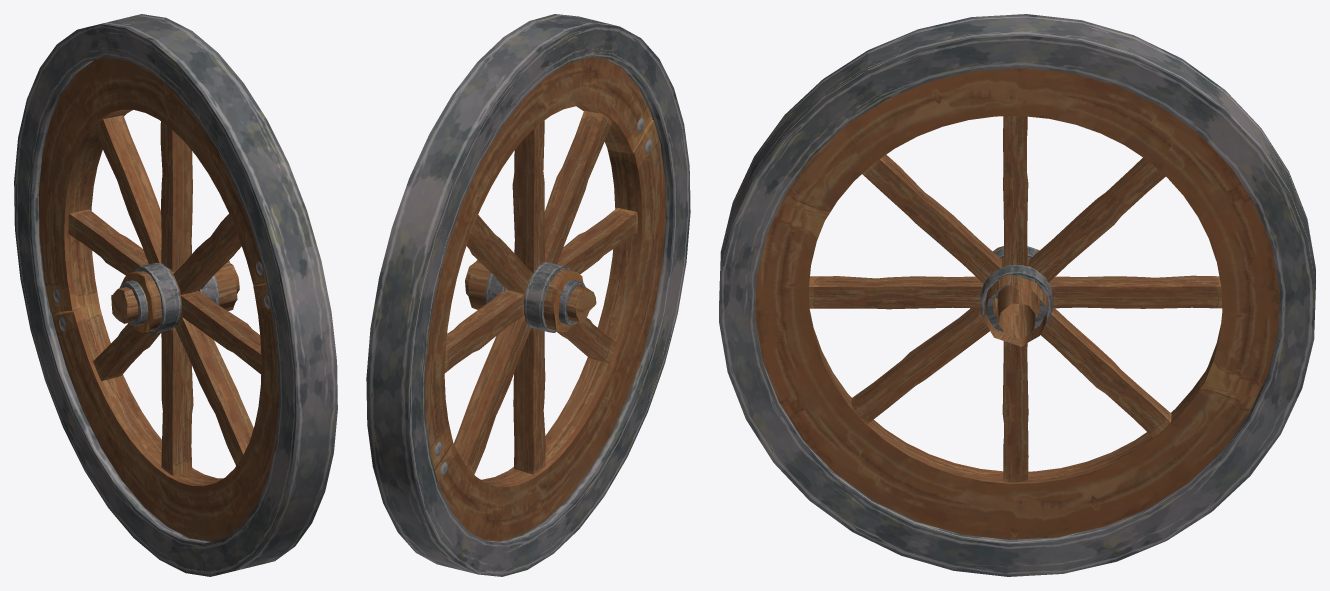
Rendered from SM_Farm_Carriage_Wheel_01.fbx.
3 renders of one model, left to right at view 1: azimuth 30°, elevation 25°; view 2: azimuth 150°, elevation 25°; view 3: azimuth 270°, elevation 25°, orthographic. The views are drawn at different scales.
Visible parts, largest first — view 1: SM_Farm_Carriage_Wheel_01_LOD0; view 2: SM_Farm_Carriage_Wheel_01_LOD0; view 3: SM_Farm_Carriage_Wheel_01_LOD0.
Part boxes in pixels (x1,y1,x2,y2): SM_Farm_Carriage_Wheel_01_LOD0: [14, 14, 337, 576]; SM_Farm_Carriage_Wheel_01_LOD0: [366, 14, 690, 576]; SM_Farm_Carriage_Wheel_01_LOD0: [719, 14, 1315, 576].
Size of what is drawn, in the model's own units: 29.95 by 129 by 129.
